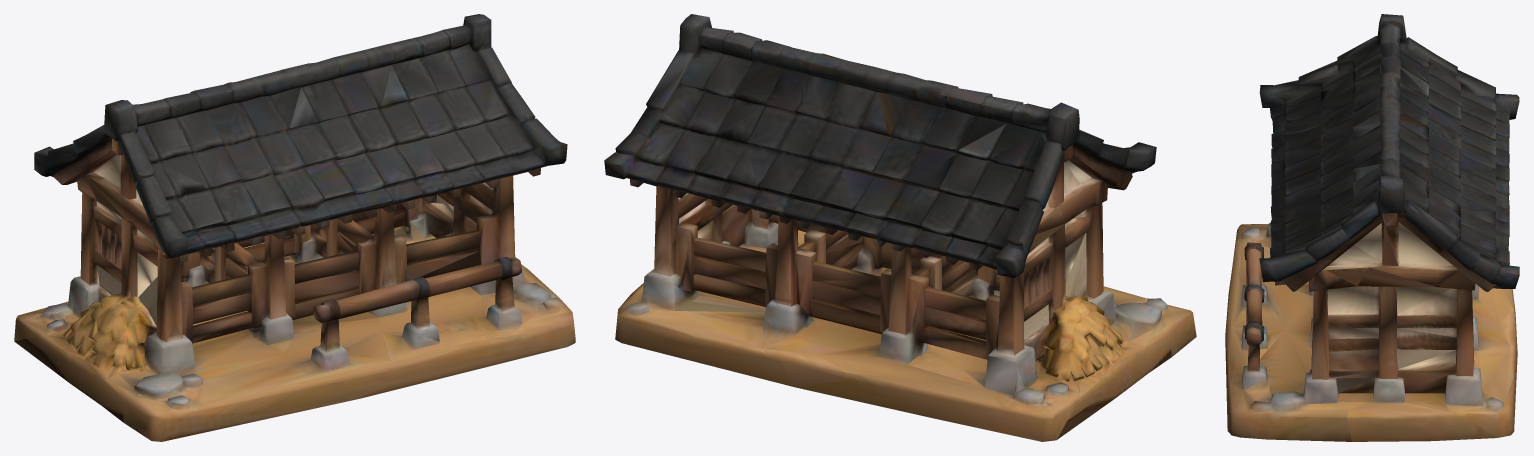
The model's file is stable.glb.
The picture shows the model from 3 angles, left to right: view 1: azimuth 30°, elevation 25°; view 2: azimuth 150°, elevation 25°; view 3: azimuth 270°, elevation 25°; orthographic projection. The views are drawn at different scales.
Visible parts, largest first — view 1: tripo_node_673601e1-1439-4714-8c9e-b987e9faf811; view 2: tripo_node_673601e1-1439-4714-8c9e-b987e9faf811; view 3: tripo_node_673601e1-1439-4714-8c9e-b987e9faf811.
Part boxes in pixels (x1=…): tripo_node_673601e1-1439-4714-8c9e-b987e9faf811: x1=14, y1=14, x2=575, y2=441; tripo_node_673601e1-1439-4714-8c9e-b987e9faf811: x1=604, y1=14, x2=1196, y2=441; tripo_node_673601e1-1439-4714-8c9e-b987e9faf811: x1=1225, y1=14, x2=1519, y2=441.
Size of the model in its own units: 0.9795 by 0.5748 by 0.6122.
1 material, 1 textured.
